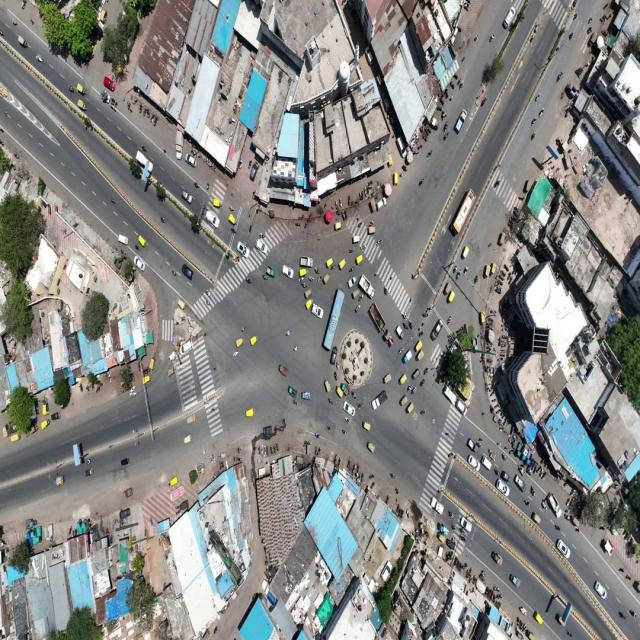3W: (414, 349, 427, 363), (176, 297, 188, 312), (246, 406, 258, 420), (366, 437, 376, 453), (75, 100, 86, 114), (351, 229, 361, 244), (185, 414, 197, 426), (472, 531, 482, 545), (462, 245, 470, 262), (489, 260, 497, 277), (166, 475, 178, 486), (618, 576, 629, 588), (303, 287, 313, 300), (249, 333, 258, 347), (479, 309, 486, 327), (214, 196, 223, 210), (181, 435, 193, 445), (489, 556, 499, 568), (497, 231, 505, 246), (228, 213, 237, 226), (342, 413, 350, 427), (39, 418, 49, 429), (334, 387, 343, 399), (383, 372, 392, 384), (323, 380, 332, 392), (17, 33, 26, 45), (166, 367, 176, 377), (147, 358, 156, 369), (462, 531, 469, 545), (444, 279, 451, 293), (448, 292, 455, 306), (399, 373, 406, 386), (400, 393, 407, 406), (413, 369, 420, 382), (139, 235, 148, 245), (120, 456, 130, 465), (299, 267, 308, 277), (322, 274, 331, 284), (85, 468, 94, 478), (362, 419, 370, 430), (483, 264, 490, 276), (392, 168, 399, 180), (334, 221, 343, 230), (339, 259, 347, 269), (77, 82, 85, 92), (139, 377, 151, 383), (326, 257, 334, 266), (352, 288, 360, 297), (41, 405, 48, 415), (356, 254, 363, 264), (237, 337, 244, 347), (416, 339, 422, 350), (306, 300, 313, 309)
Bus: (449, 187, 478, 235), (323, 288, 345, 349)
Cars: (597, 578, 612, 608), (175, 337, 196, 356), (495, 479, 511, 499), (557, 539, 571, 559), (430, 320, 443, 341), (442, 385, 456, 404), (455, 400, 469, 419), (206, 210, 220, 229), (132, 253, 145, 272), (468, 450, 480, 470), (282, 264, 295, 282), (312, 301, 324, 320), (237, 242, 251, 258), (181, 190, 194, 206), (481, 456, 494, 472), (344, 398, 357, 414), (104, 75, 117, 91), (255, 238, 268, 254), (116, 232, 129, 246), (376, 196, 386, 214), (182, 264, 193, 278), (482, 456, 493, 468), (330, 348, 337, 366)
LCV: (367, 303, 394, 349), (134, 143, 156, 173), (359, 271, 376, 301), (548, 486, 563, 518), (454, 106, 468, 137), (370, 391, 389, 411), (430, 497, 445, 518), (299, 252, 313, 269), (337, 382, 352, 397), (264, 265, 276, 279), (519, 500, 531, 513), (438, 524, 450, 537), (396, 324, 405, 340), (301, 389, 312, 402), (287, 384, 298, 397), (278, 365, 289, 377), (52, 476, 65, 486), (403, 351, 412, 365), (121, 487, 133, 497), (472, 334, 479, 351), (262, 427, 272, 437), (348, 277, 357, 287)
M2W: (518, 584, 526, 600), (499, 446, 509, 458), (534, 92, 543, 105), (158, 212, 166, 226), (487, 32, 496, 44), (35, 53, 42, 68), (480, 94, 488, 107), (529, 115, 537, 128), (67, 81, 75, 94), (473, 436, 481, 449), (493, 178, 501, 190), (550, 610, 557, 623), (420, 405, 427, 418), (240, 323, 249, 333), (426, 149, 434, 160), (402, 320, 409, 332), (495, 551, 504, 560), (85, 457, 93, 467), (510, 474, 518, 484), (452, 261, 458, 274), (531, 130, 537, 143), (353, 304, 359, 317), (349, 262, 355, 275), (556, 71, 563, 82), (349, 243, 356, 254), (486, 569, 494, 578), (389, 469, 398, 477), (233, 348, 240, 358), (540, 509, 547, 519), (12, 17, 17, 31), (447, 314, 453, 325), (292, 398, 298, 409), (368, 216, 374, 227), (336, 360, 342, 371), (261, 273, 268, 282), (244, 277, 253, 284), (360, 242, 367, 251), (531, 489, 538, 498), (462, 268, 469, 277), (193, 179, 200, 188), (412, 386, 419, 395), (444, 130, 450, 140), (309, 272, 314, 284), (505, 462, 511, 472), (539, 108, 545, 118), (456, 271, 462, 281), (419, 177, 425, 187), (382, 287, 388, 297), (111, 196, 117, 206), (376, 240, 383, 248), (286, 327, 291, 338), (314, 263, 319, 274), (300, 282, 306, 291), (371, 228, 377, 237), (358, 294, 364, 303), (351, 390, 357, 399), (350, 417, 356, 426), (407, 383, 412, 393), (293, 346, 299, 354), (420, 378, 426, 386), (408, 319, 413, 328), (424, 367, 428, 378), (318, 274, 322, 285), (297, 277, 303, 284), (171, 269, 177, 276), (358, 402, 364, 409), (442, 122, 448, 129), (497, 456, 502, 463), (474, 275, 479, 282), (527, 496, 531, 504)
